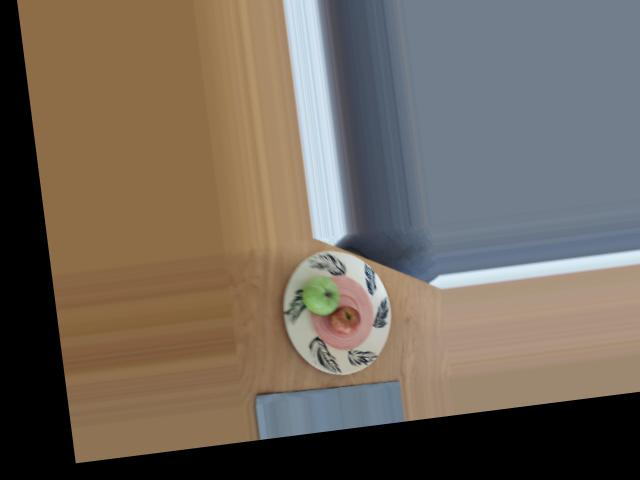apple: (296, 272, 341, 317)
